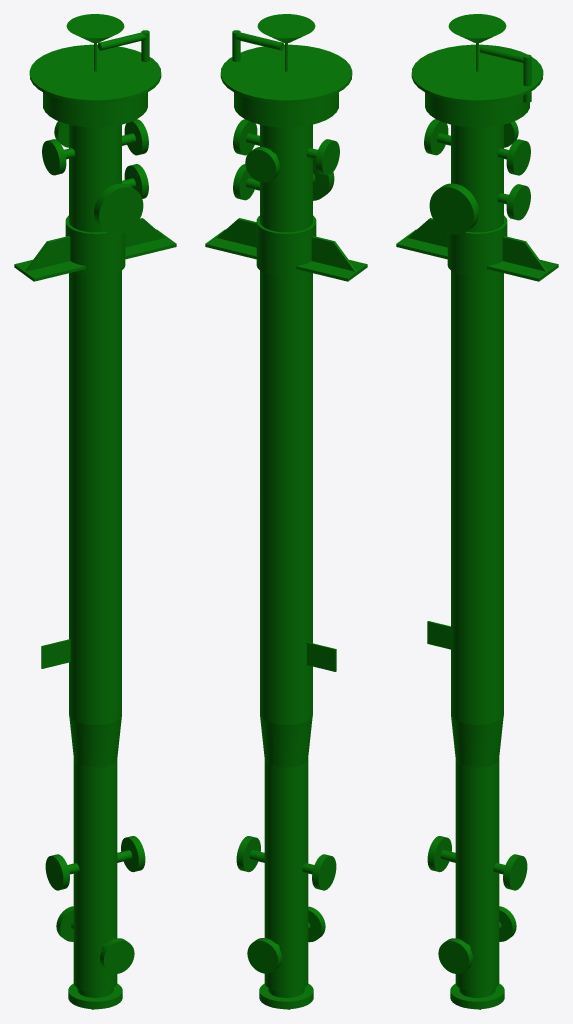
The model's file is Image-1710907768735-2281130700352_21-VW50.fbx.
3 views of the same model, side by side, from view 1: azimuth 30°, elevation 25°; view 2: azimuth 150°, elevation 25°; view 3: azimuth 330°, elevation 25° (orthographic).
Visible parts, largest first — view 1: CYLINDER 2 of SUBEQUIPMENT /21-VW50/PRIM, CYLINDER 1 of SUBEQUIPMENT /21-VW50/PRIM, CYLINDER 4 of SUBEQUIPMENT /21-VW50/PRIM, CYLINDER 3 of SUBEQUIPMENT /21-VW50/PRIM, CYLINDER 1 of SUBEQUIPMENT /21-VW50/SUPPORT, CONE 1 of SUBEQUIPMENT /21-VW50/PRIM, /21-VW50/N1, PYRAMID 1 of SUBEQUIPMENT /21-VW50/SUPPORT, BOX 1 of SUBEQUIPMENT /21-VW50/SUPPORT, CONE 3 of SUBEQUIPMENT /21-VW50/PRIM, /21-VW50/N2, /21-VW50/K1 (+8 smaller); view 2: CYLINDER 2 of SUBEQUIPMENT /21-VW50/PRIM, CYLINDER 1 of SUBEQUIPMENT /21-VW50/PRIM, CYLINDER 4 of SUBEQUIPMENT /21-VW50/PRIM, CYLINDER 1 of SUBEQUIPMENT /21-VW50/SUPPORT, CYLINDER 3 of SUBEQUIPMENT /21-VW50/PRIM, CONE 1 of SUBEQUIPMENT /21-VW50/PRIM, PYRAMID 1 of SUBEQUIPMENT /21-VW50/SUPPORT, BOX 1 of SUBEQUIPMENT /21-VW50/SUPPORT, CONE 3 of SUBEQUIPMENT /21-VW50/PRIM, /21-VW50/N2, /21-VW50/K3, /21-VW50/N5 (+9 smaller); view 3: CYLINDER 2 of SUBEQUIPMENT /21-VW50/PRIM, CYLINDER 1 of SUBEQUIPMENT /21-VW50/PRIM, CYLINDER 4 of SUBEQUIPMENT /21-VW50/PRIM, CYLINDER 3 of SUBEQUIPMENT /21-VW50/PRIM, CYLINDER 1 of SUBEQUIPMENT /21-VW50/SUPPORT, CONE 1 of SUBEQUIPMENT /21-VW50/PRIM, /21-VW50/N1, PYRAMID 1 of SUBEQUIPMENT /21-VW50/SUPPORT, BOX 1 of SUBEQUIPMENT /21-VW50/SUPPORT, CONE 3 of SUBEQUIPMENT /21-VW50/PRIM, /21-VW50/N2, /21-VW50/K1 (+8 smaller).
Boxes of the visible parts, <box> form: CYLINDER 2 of SUBEQUIPMENT /21-VW50/PRIM: <box>69,124,121,724</box>; CYLINDER 1 of SUBEQUIPMENT /21-VW50/PRIM: <box>73,758,117,991</box>; CYLINDER 4 of SUBEQUIPMENT /21-VW50/PRIM: <box>29,44,161,103</box>; CYLINDER 3 of SUBEQUIPMENT /21-VW50/PRIM: <box>43,92,147,127</box>; CYLINDER 1 of SUBEQUIPMENT /21-VW50/SUPPORT: <box>65,215,125,277</box>; CONE 1 of SUBEQUIPMENT /21-VW50/PRIM: <box>69,715,121,767</box>; /21-VW50/N1: <box>94,183,143,234</box>; PYRAMID 1 of SUBEQUIPMENT /21-VW50/SUPPORT: <box>25,218,165,271</box>; BOX 1 of SUBEQUIPMENT /21-VW50/SUPPORT: <box>14,229,176,281</box>; CONE 3 of SUBEQUIPMENT /21-VW50/PRIM: <box>66,14,124,43</box>; /21-VW50/N2: <box>68,983,122,1009</box>; /21-VW50/K1: <box>100,938,134,973</box>; CYLINDER 2 of SUBEQUIPMENT /21-VW50/PRIM: <box>260,124,312,724</box>; CYLINDER 1 of SUBEQUIPMENT /21-VW50/PRIM: <box>264,758,308,991</box>; CYLINDER 4 of SUBEQUIPMENT /21-VW50/PRIM: <box>220,44,352,103</box>; CYLINDER 1 of SUBEQUIPMENT /21-VW50/SUPPORT: <box>256,215,316,277</box>; CYLINDER 3 of SUBEQUIPMENT /21-VW50/PRIM: <box>234,92,338,127</box>; CONE 1 of SUBEQUIPMENT /21-VW50/PRIM: <box>260,715,312,767</box>; PYRAMID 1 of SUBEQUIPMENT /21-VW50/SUPPORT: <box>216,218,356,271</box>; BOX 1 of SUBEQUIPMENT /21-VW50/SUPPORT: <box>205,229,367,281</box>; CONE 3 of SUBEQUIPMENT /21-VW50/PRIM: <box>257,14,315,43</box>; /21-VW50/N2: <box>259,983,313,1009</box>; /21-VW50/K3: <box>247,938,281,973</box>; /21-VW50/N5: <box>245,147,279,182</box>; CYLINDER 2 of SUBEQUIPMENT /21-VW50/PRIM: <box>451,124,503,724</box>; CYLINDER 1 of SUBEQUIPMENT /21-VW50/PRIM: <box>455,758,499,991</box>; CYLINDER 4 of SUBEQUIPMENT /21-VW50/PRIM: <box>411,44,543,103</box>; CYLINDER 3 of SUBEQUIPMENT /21-VW50/PRIM: <box>425,92,529,127</box>; CYLINDER 1 of SUBEQUIPMENT /21-VW50/SUPPORT: <box>447,215,507,277</box>; CONE 1 of SUBEQUIPMENT /21-VW50/PRIM: <box>451,715,503,767</box>; /21-VW50/N1: <box>429,183,478,234</box>; PYRAMID 1 of SUBEQUIPMENT /21-VW50/SUPPORT: <box>407,218,547,271</box>; BOX 1 of SUBEQUIPMENT /21-VW50/SUPPORT: <box>396,229,558,281</box>; CONE 3 of SUBEQUIPMENT /21-VW50/PRIM: <box>448,14,506,43</box>; /21-VW50/N2: <box>450,983,504,1009</box>; /21-VW50/K1: <box>438,938,472,973</box>.
Size of the model in its own units: 1 by 0.8 by 6.55.
